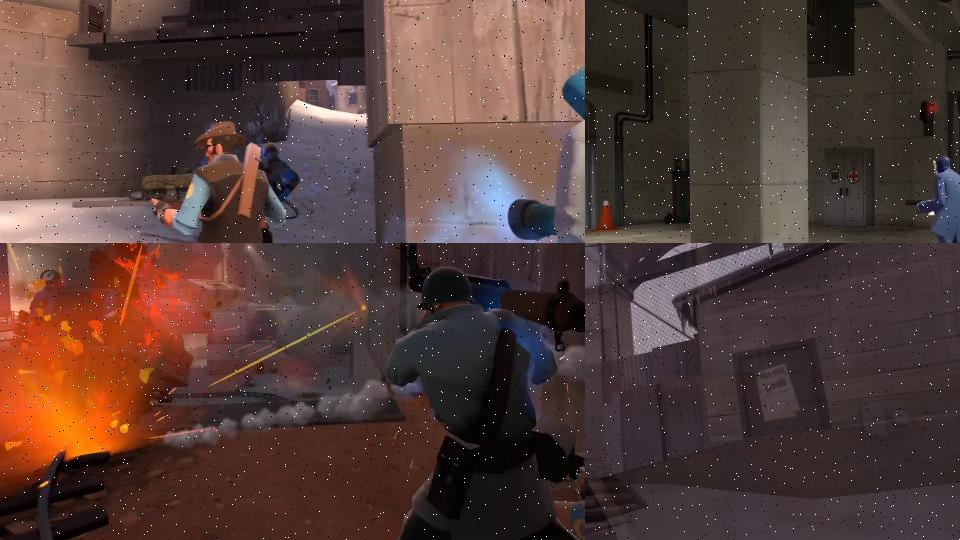Enemy: (371, 243, 585, 540), (73, 121, 286, 243), (505, 41, 585, 243), (904, 153, 960, 243)
